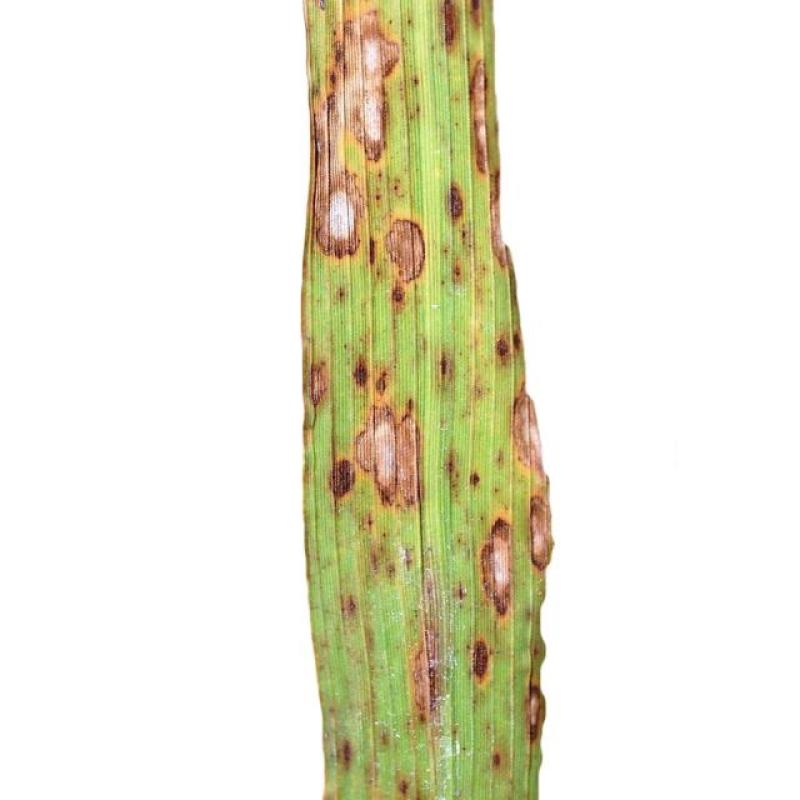Leaf_Blast: (434, 14, 534, 304), (307, 0, 423, 202), (344, 352, 438, 538), (359, 210, 459, 285), (305, 184, 390, 271), (495, 370, 561, 475), (476, 514, 524, 612), (512, 488, 570, 559), (451, 634, 509, 700), (513, 688, 565, 743), (318, 445, 362, 505)
